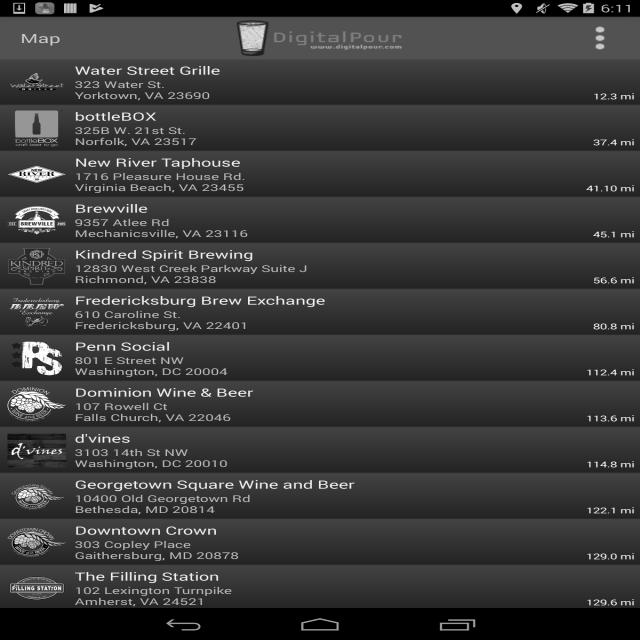Button: (8, 23, 72, 53)
ImageButton: (579, 23, 626, 53)
ImageView: (0, 59, 640, 608), (220, 19, 420, 57), (8, 64, 66, 101), (8, 110, 66, 147), (8, 156, 66, 193), (8, 202, 66, 239), (8, 248, 66, 285), (8, 294, 66, 331), (8, 340, 66, 377), (8, 386, 66, 423), (8, 432, 66, 469), (8, 478, 66, 515), (8, 524, 66, 561), (8, 570, 66, 607)
TextView: (75, 78, 593, 102), (75, 124, 593, 148), (75, 216, 593, 240), (75, 262, 593, 286), (75, 308, 593, 332), (75, 170, 586, 194), (75, 354, 586, 378), (75, 400, 586, 424), (75, 446, 586, 470), (75, 492, 586, 516), (75, 538, 586, 562), (75, 584, 586, 608), (75, 477, 355, 492), (75, 293, 326, 308), (75, 247, 254, 262), (75, 385, 253, 400), (74, 155, 240, 170), (74, 63, 220, 78), (74, 523, 218, 538), (75, 569, 219, 584), (75, 339, 170, 354), (75, 109, 156, 124), (586, 170, 635, 194), (586, 354, 635, 378), (586, 400, 635, 424), (586, 446, 635, 470), (586, 492, 635, 516), (586, 538, 635, 562), (586, 584, 635, 608), (74, 201, 148, 216), (593, 78, 635, 102), (593, 124, 635, 148), (593, 216, 635, 240), (593, 262, 635, 286), (593, 308, 635, 332), (74, 431, 130, 446)
